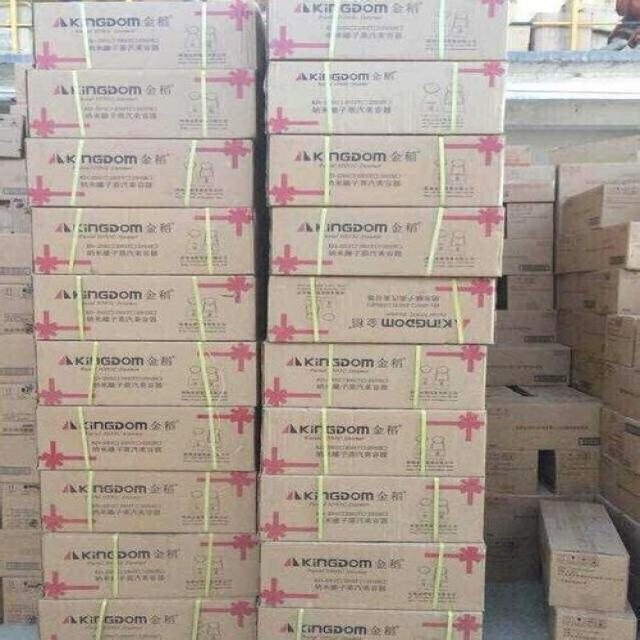box: (24, 68, 266, 154), (24, 137, 269, 220), (265, 60, 507, 135), (266, 135, 506, 207), (266, 207, 506, 277), (31, 207, 266, 278), (33, 334, 264, 406), (259, 406, 488, 478), (266, 275, 497, 345), (31, 0, 265, 69), (256, 474, 486, 543), (260, 341, 488, 410), (31, 274, 268, 340), (260, 543, 488, 611), (264, 0, 508, 62), (41, 532, 260, 600), (36, 406, 261, 472), (37, 470, 259, 533), (539, 500, 630, 612), (37, 597, 261, 640), (488, 385, 604, 451), (256, 607, 485, 640), (485, 480, 598, 539), (571, 346, 640, 422), (553, 219, 639, 276), (557, 309, 639, 368), (554, 183, 640, 238), (553, 268, 640, 316), (544, 595, 637, 639), (0, 482, 42, 578), (0, 158, 31, 283), (0, 382, 38, 483), (595, 494, 640, 576), (488, 342, 571, 386), (0, 283, 33, 383), (557, 162, 639, 202), (539, 450, 602, 497), (599, 452, 639, 523), (484, 536, 539, 583), (602, 407, 640, 475), (486, 449, 540, 494), (497, 308, 558, 343), (503, 165, 557, 203), (503, 238, 554, 276), (497, 275, 554, 309), (0, 578, 42, 624), (504, 203, 556, 239), (0, 113, 23, 159), (15, 63, 32, 104), (504, 144, 532, 165), (627, 571, 639, 618), (9, 104, 24, 115)
